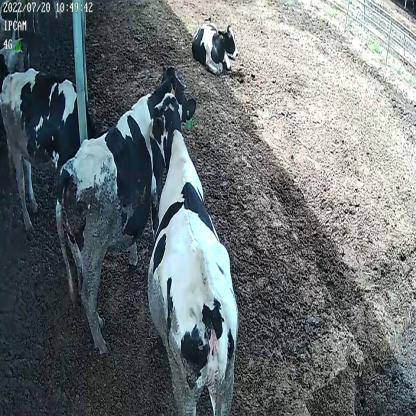cow: (54, 70, 199, 347), (147, 92, 240, 414), (0, 59, 96, 228), (191, 19, 240, 76)
